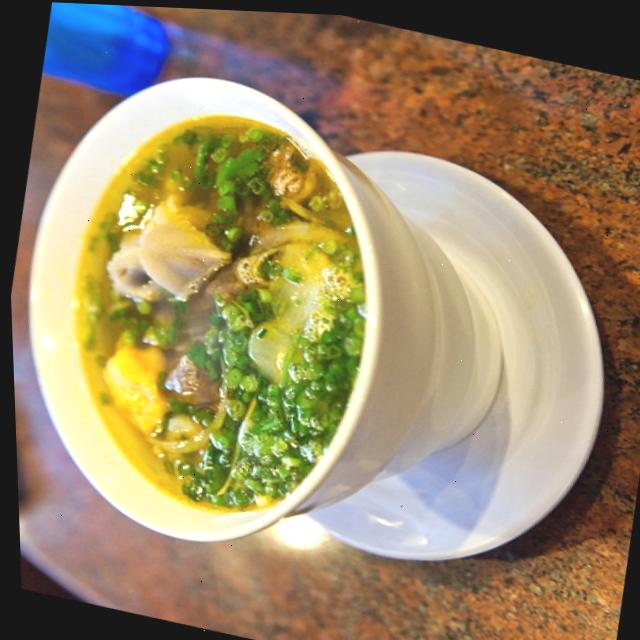汤锅炖物: (2, 54, 425, 568)
